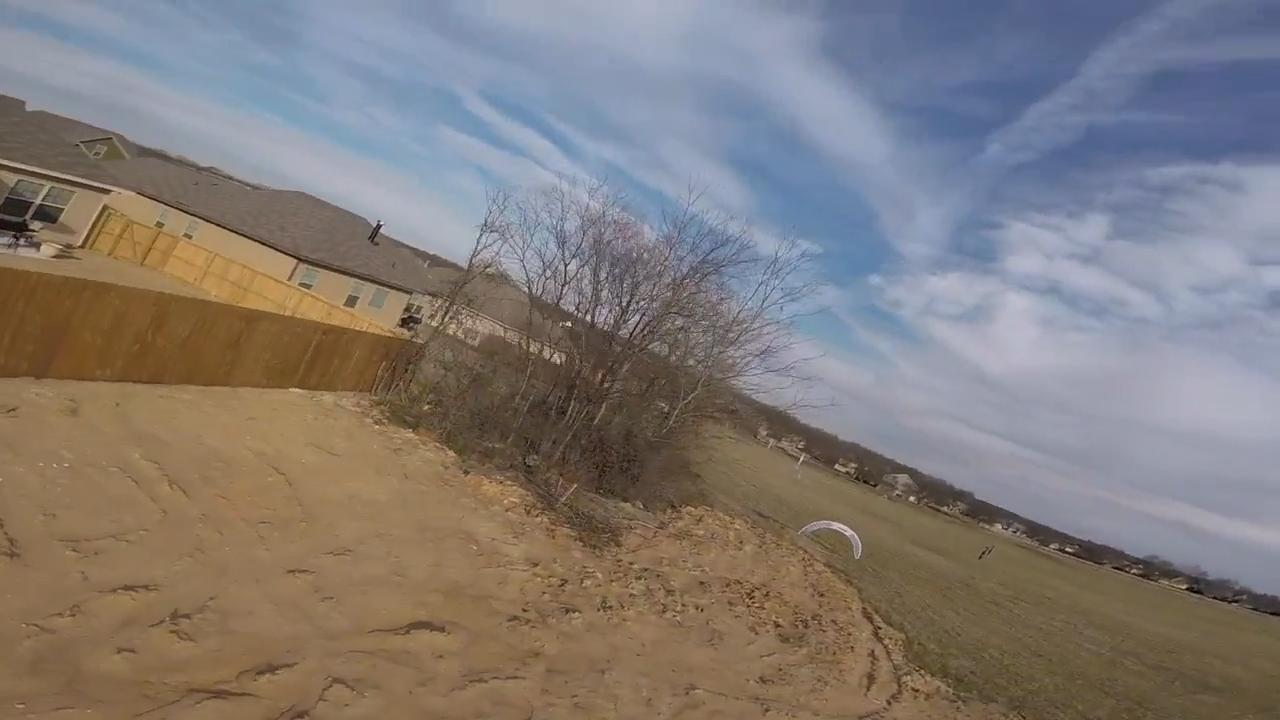gate: (794, 518, 864, 560)
